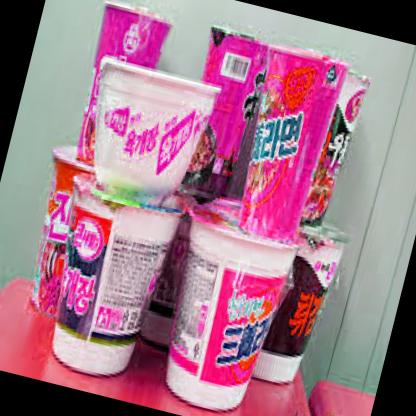Ramen: (31, 176, 189, 386), (151, 200, 303, 416), (14, 142, 140, 336), (226, 42, 345, 247), (72, 53, 221, 209), (228, 212, 346, 390), (67, 0, 175, 168), (274, 60, 370, 240), (173, 22, 269, 200)
